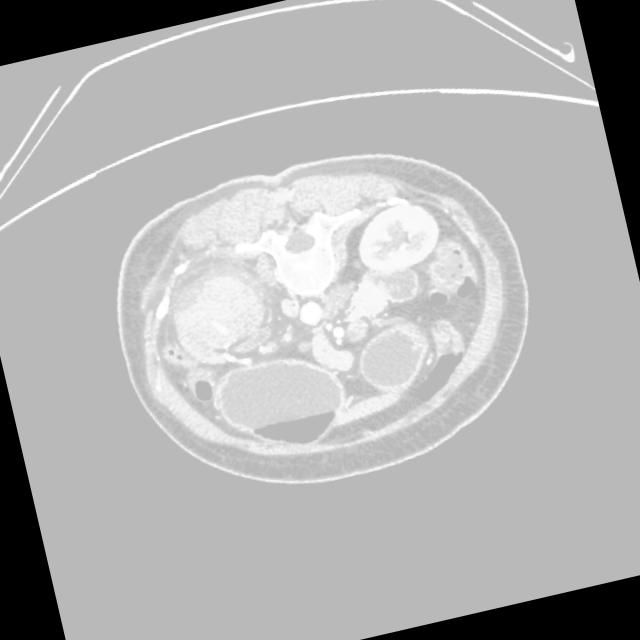TUMOR: (146, 174, 512, 468)
